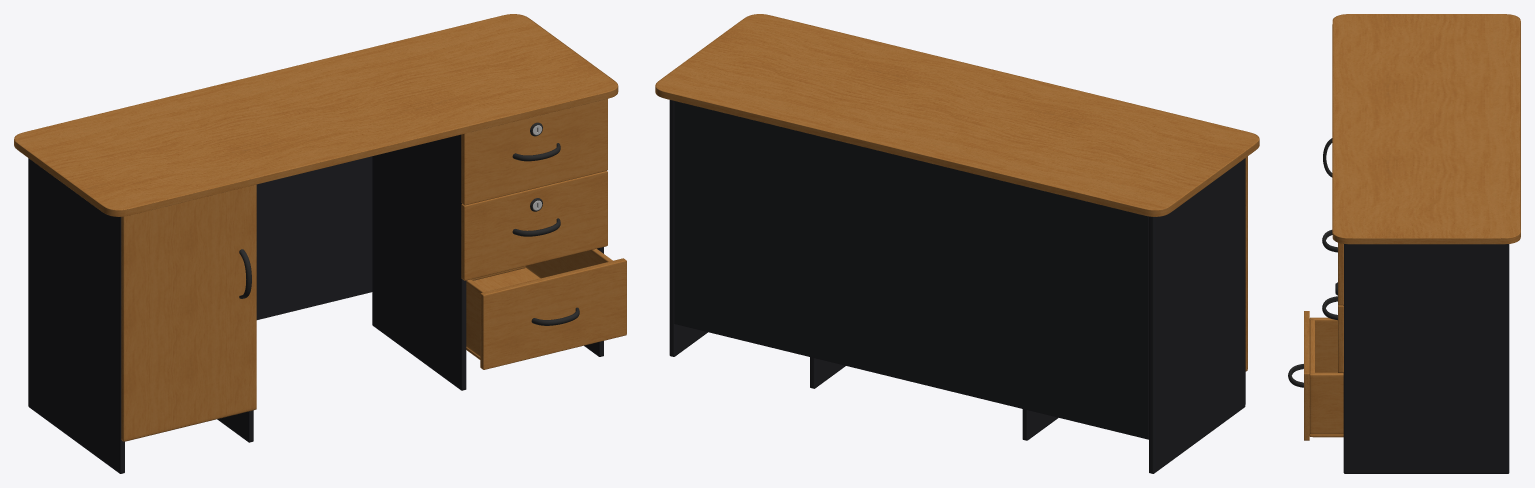
The model's file is office_table_desk.glb.
3 renders of one model, left to right at view 1: azimuth 30°, elevation 25°; view 2: azimuth 150°, elevation 25°; view 3: azimuth 270°, elevation 25°, orthographic. The views are drawn at different scales.
Visible parts, largest first — view 1: Office Table Desk; view 2: Office Table Desk; view 3: Office Table Desk.
Boxes of the visible parts, <box> form: Office Table Desk: <box>14,14,626,473</box>; Office Table Desk: <box>655,14,1259,473</box>; Office Table Desk: <box>1288,14,1520,473</box>.
Bounding box in the file's own units: 1.81 × 0.9124 × 0.7956.
Materials: 6 (3 with a texture image).
